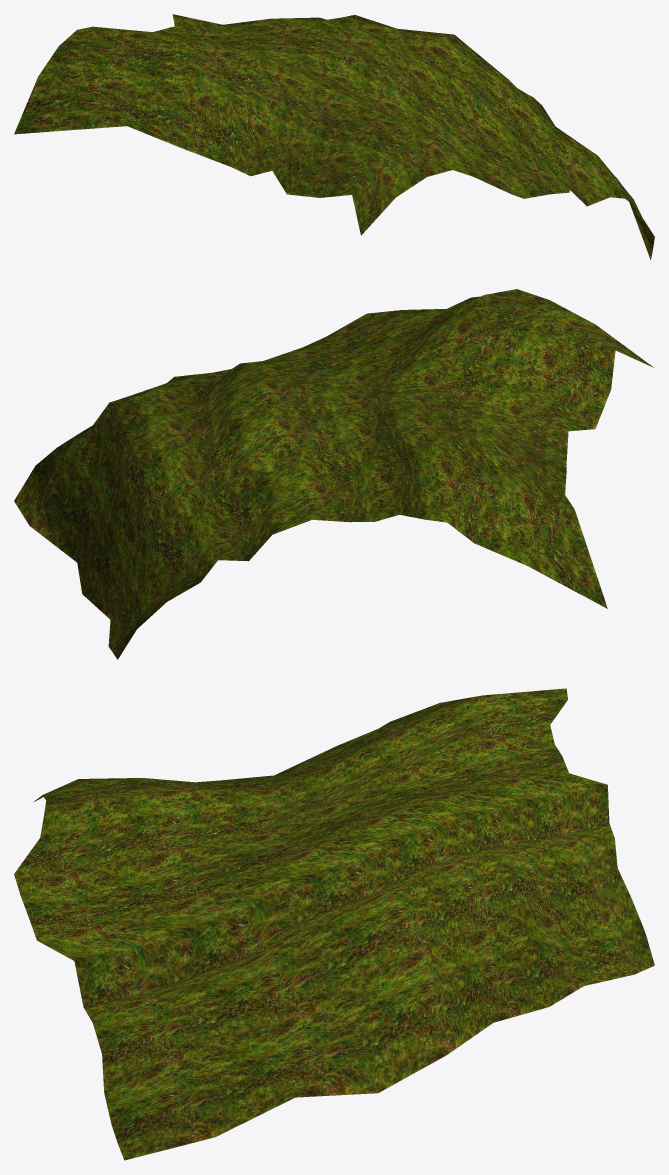
File: TROLLHOLE02_ZOBJECT04.fbx
The picture shows the model from 3 angles, top to bottom: view 1: azimuth 30°, elevation 25°; view 2: azimuth 150°, elevation 25°; view 3: azimuth 270°, elevation 25°; orthographic projection. The views are drawn at different scales.
Parts seen in each view (by area): view 1: TROLLHOLE02_ZOBJECT04; view 2: TROLLHOLE02_ZOBJECT04; view 3: TROLLHOLE02_ZOBJECT04.
Boxes of the visible parts, x1=… form: TROLLHOLE02_ZOBJECT04: x1=14, y1=14, x2=654, y2=260; TROLLHOLE02_ZOBJECT04: x1=14, y1=289, x2=653, y2=659; TROLLHOLE02_ZOBJECT04: x1=14, y1=688, x2=654, y2=1160.
Size of the model in its own units: 345043 by 135980 by 313212.
Materials: 1 (1 with a texture image).
